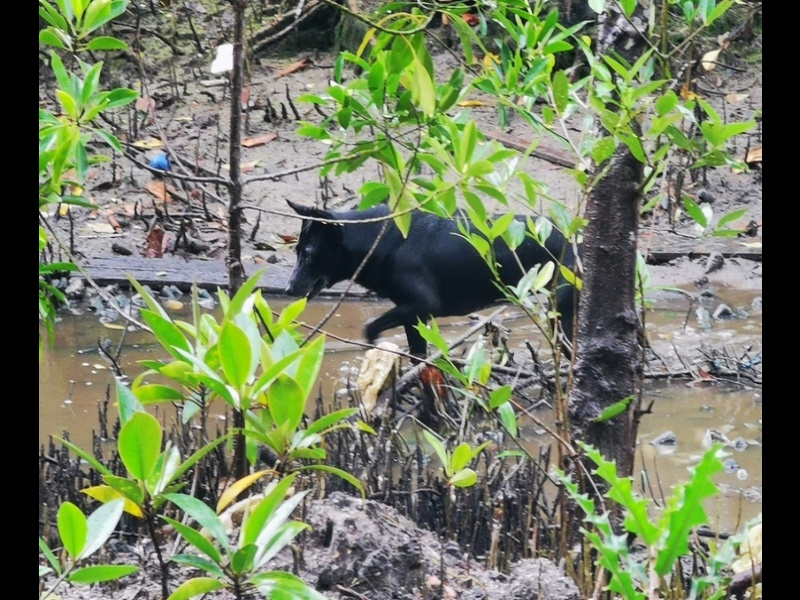dog: (271, 192, 601, 404)
